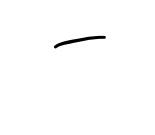minus: (54, 35, 107, 49)
